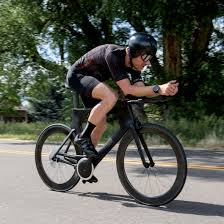bicycle: (29, 93, 190, 211)
